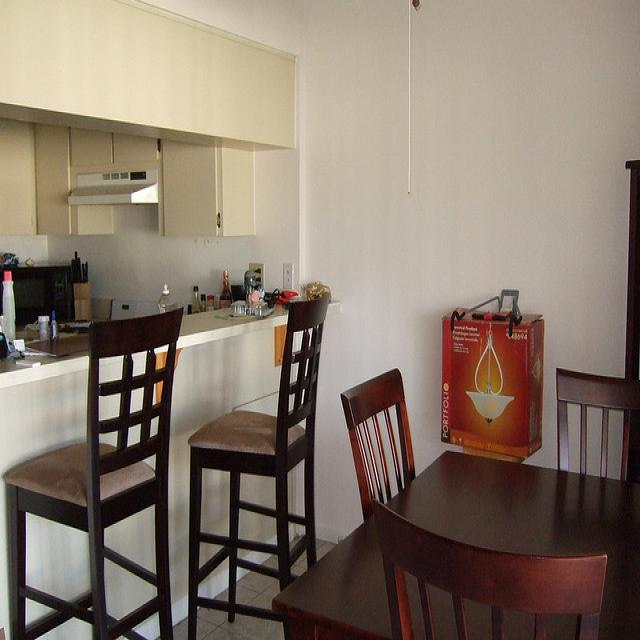chair: (3, 308, 184, 640), (188, 289, 327, 631), (380, 511, 611, 634), (340, 360, 419, 519), (557, 367, 639, 482)
dining table: (274, 449, 640, 630)
